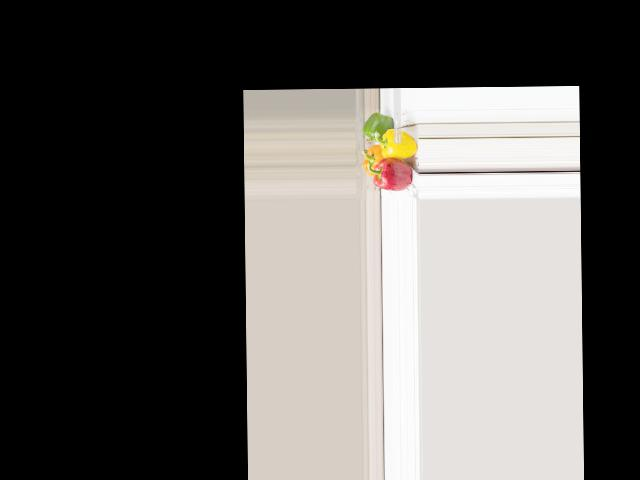bell_pepper: (361, 143, 385, 176)
